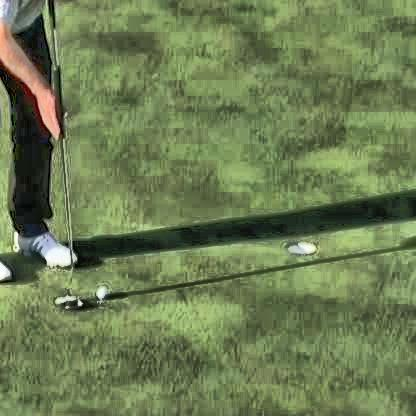golfball: (92, 281, 105, 297)
